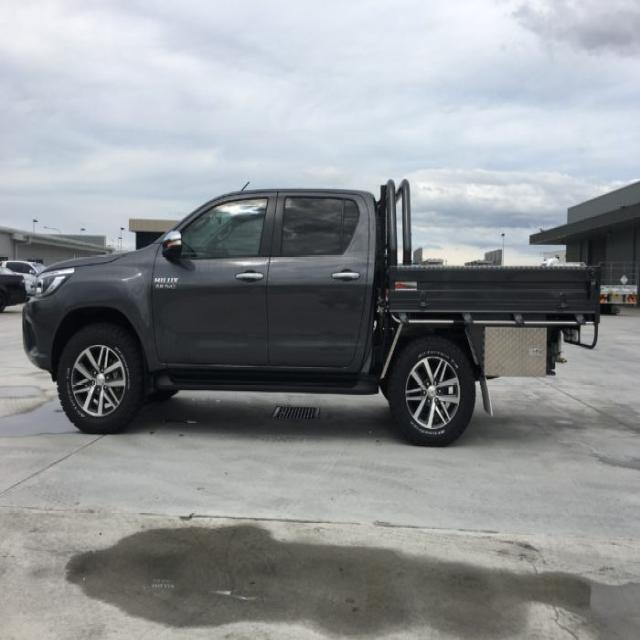light_vehicle: (20, 178, 608, 457)
